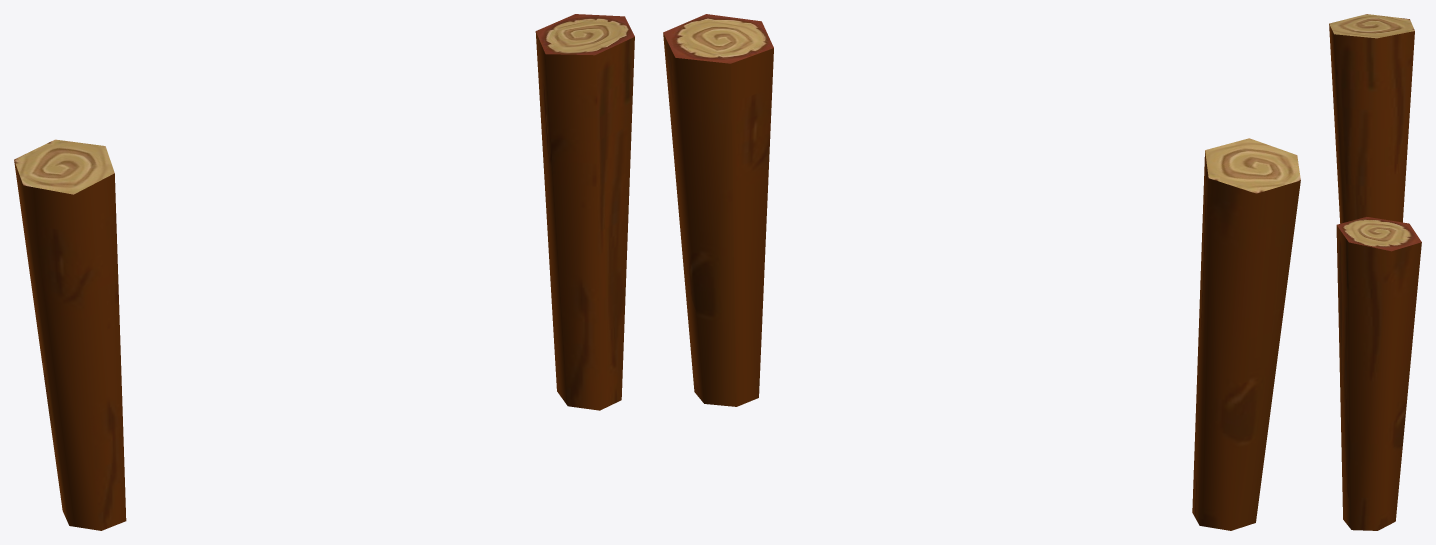
Rendered from SM_PROP_fence_door_gate.glb.
3 views of the same model, side by side, from view 1: azimuth 30°, elevation 25°; view 2: azimuth 150°, elevation 25°; view 3: azimuth 270°, elevation 25° (orthographic). The views are drawn at different scales.
Visible parts, largest first — view 1: SM_PROP_fence_door_gate_EXPORT; view 2: SM_PROP_fence_door_gate_EXPORT; view 3: SM_PROP_fence_door_gate_EXPORT.
Boxes of the visible parts, x1,y1,x2,y2 form: SM_PROP_fence_door_gate_EXPORT: (14, 14, 634, 530); SM_PROP_fence_door_gate_EXPORT: (663, 14, 1300, 530); SM_PROP_fence_door_gate_EXPORT: (1329, 14, 1421, 530).
Size of the model in its own units: 2.06 by 1.16 by 0.3323.
Materials: 2 (2 with a texture image).
